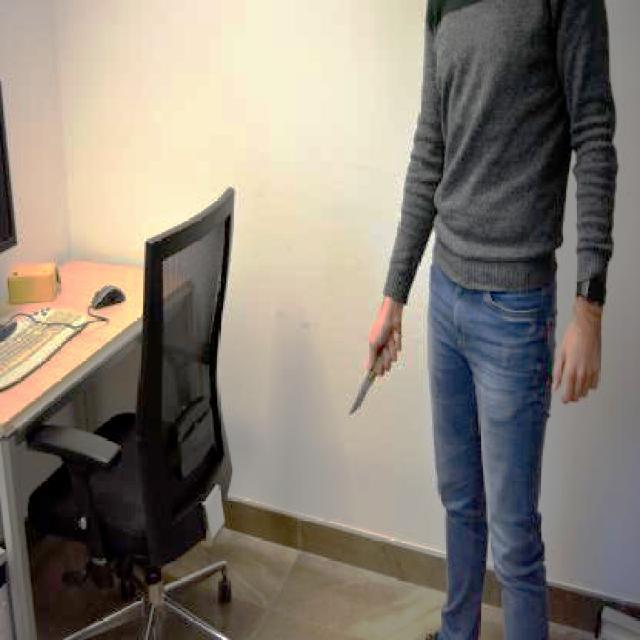Knife: (347, 358, 381, 418)
